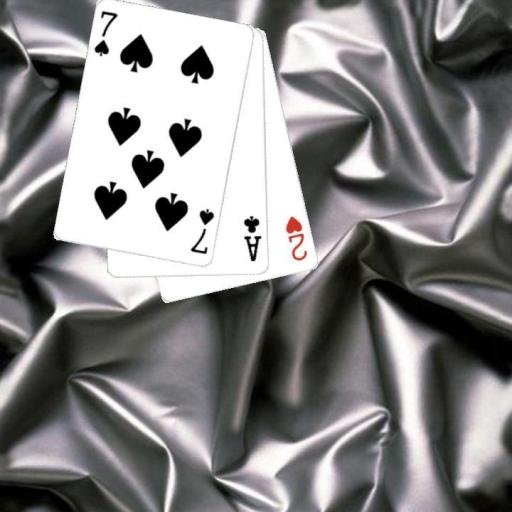card-corner: (282, 213, 310, 263), (188, 206, 216, 256), (91, 8, 119, 58), (241, 213, 263, 263)
